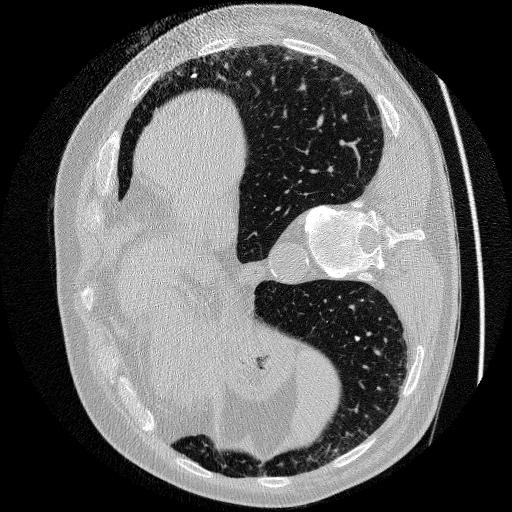nodule: (188, 69, 200, 81)
